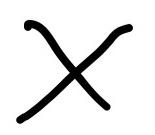mult: (18, 19, 133, 123)
